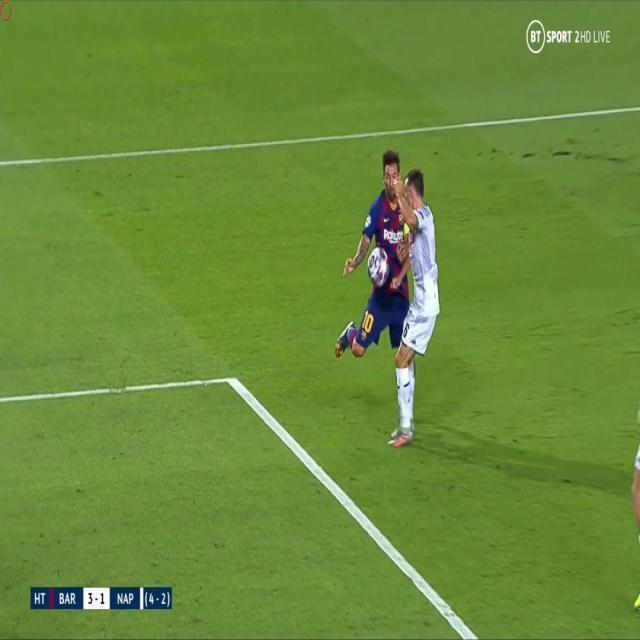ball: (367, 245, 390, 291)
player: (327, 141, 426, 432), (386, 152, 451, 441)
